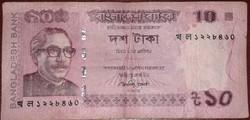10 taka: (5, 3, 246, 116)
